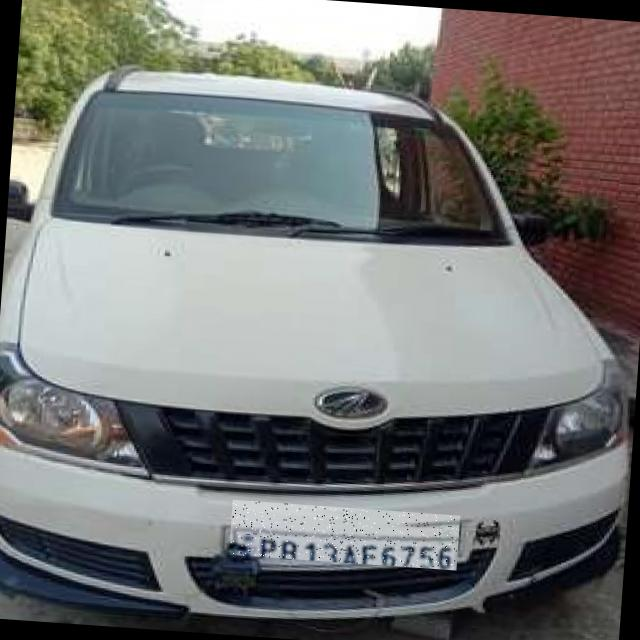Plate: (230, 500, 461, 571)
